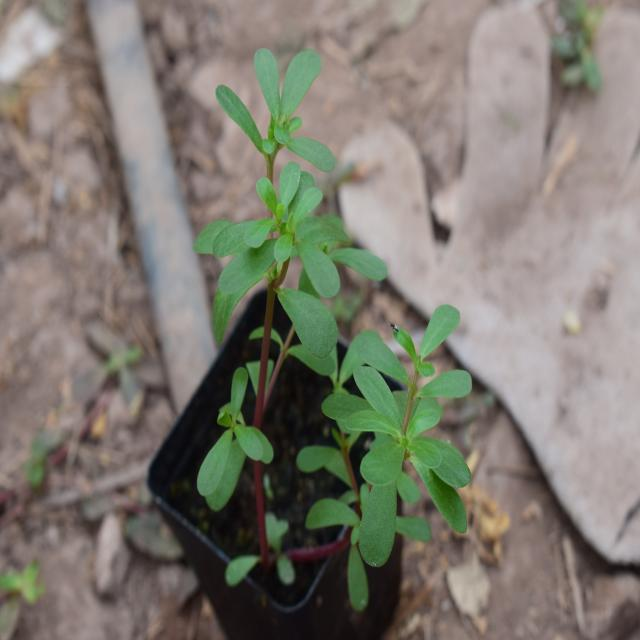purslane: (186, 36, 494, 576)
